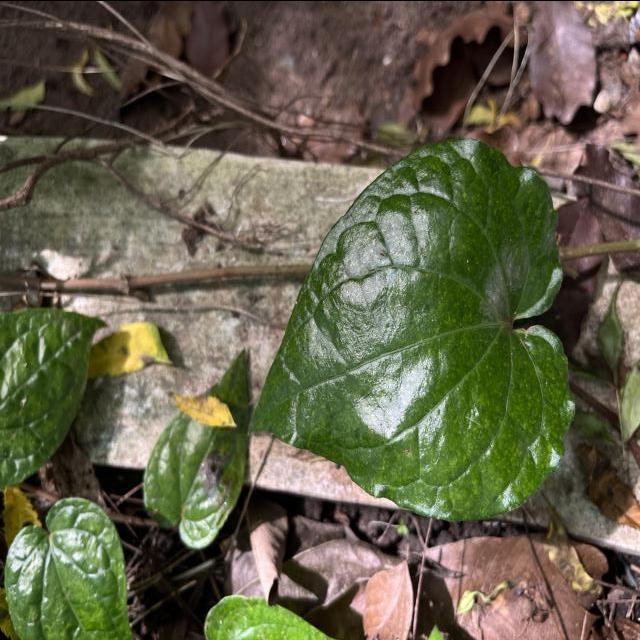Piper betle: (242, 131, 578, 524)
